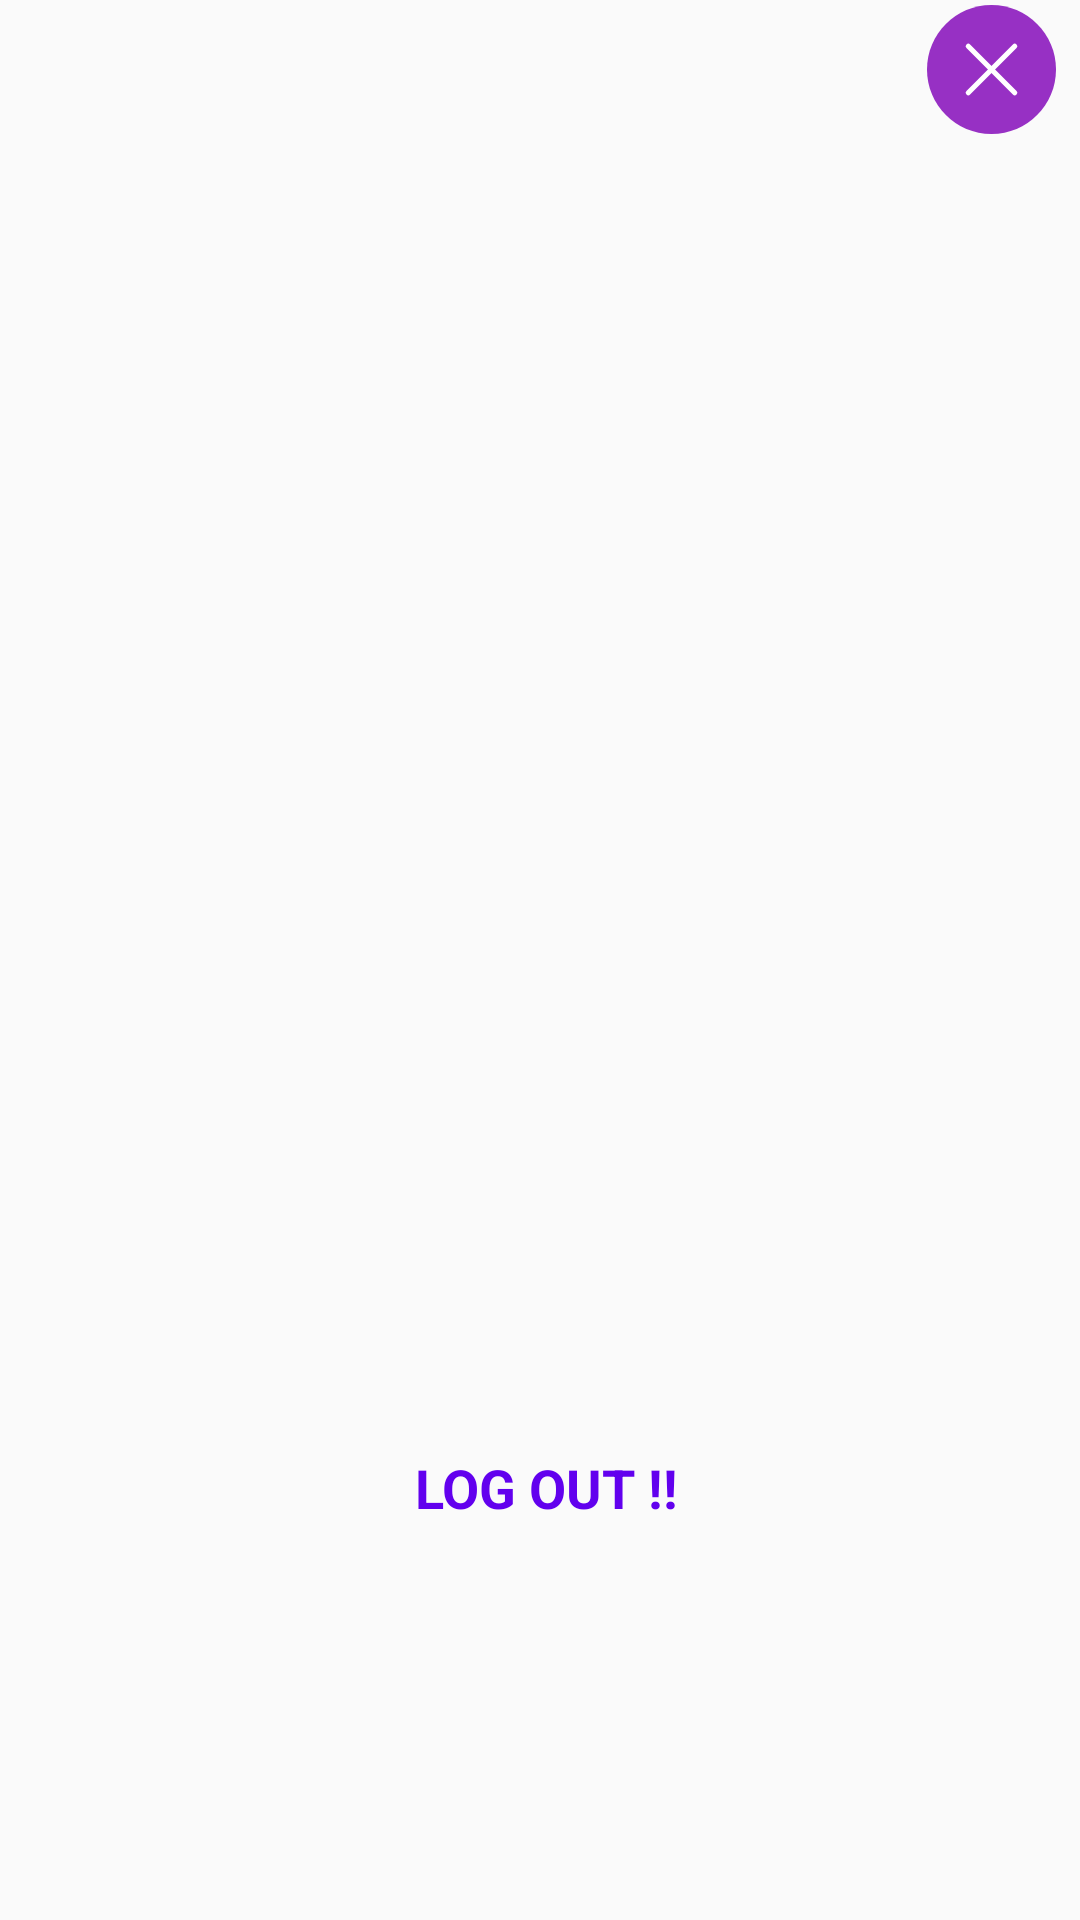

Locate icon controls on the screen. Image size 1080 × 1920, boxes as (x1, y1, x2, y2).
cross: (927, 5, 1056, 134)
